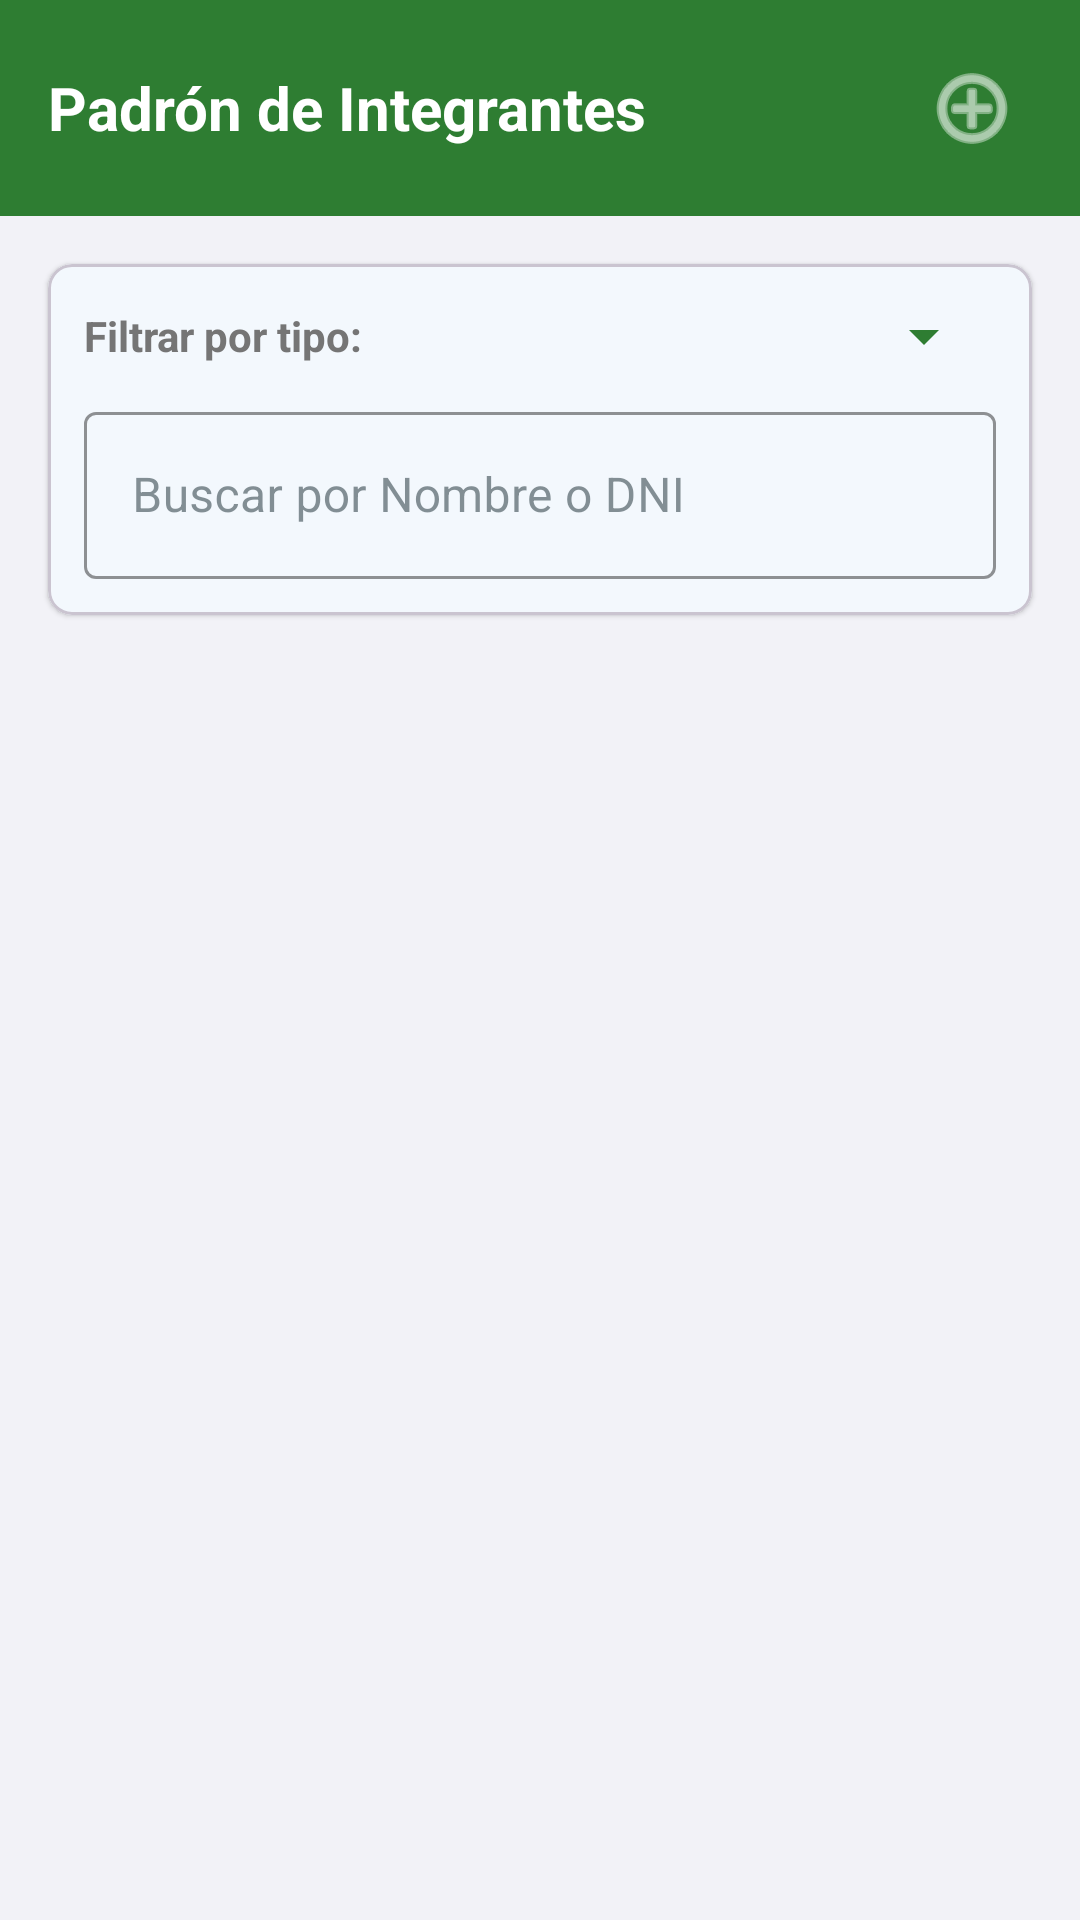

Point at icon controls on the screen. Image size 1080x1920, points as (x=x, y=y).
add: (x=972, y=108)
